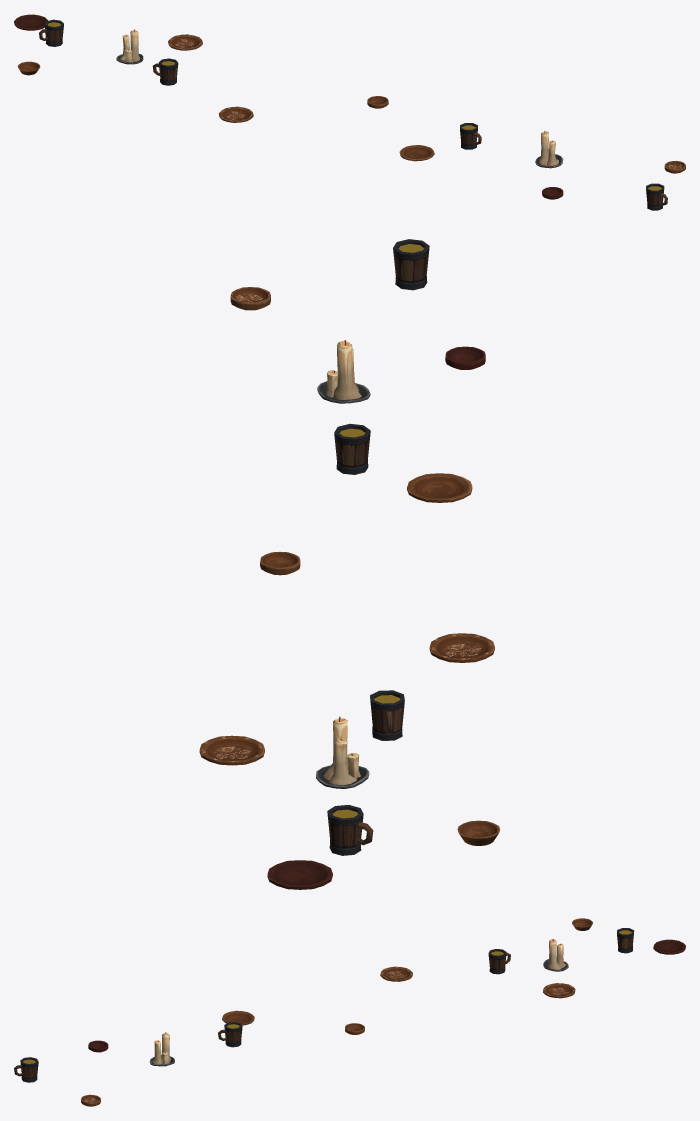
File: TableObjects.fbx
The picture shows the model from 3 angles, top to bottom: view 1: azimuth 30°, elevation 25°; view 2: azimuth 150°, elevation 25°; view 3: azimuth 270°, elevation 25°; orthographic projection. The views are drawn at different scales.
Parts seen in each view (by area): view 1: SM_PROP_cup_dungeon_03.001; view 2: SM_PROP_cup_dungeon_03.001; view 3: SM_PROP_cup_dungeon_03.001.
Boxes of the visible parts, x1=… form: SM_PROP_cup_dungeon_03.001: x1=14, y1=14, x2=685, y2=210; SM_PROP_cup_dungeon_03.001: x1=199, y1=239, x2=500, y2=889; SM_PROP_cup_dungeon_03.001: x1=14, y1=918, x2=685, y2=1106.
Bounding box in the file's own units: 4.21 × 0.3207 × 6.48.
4 materials, 3 textured.
